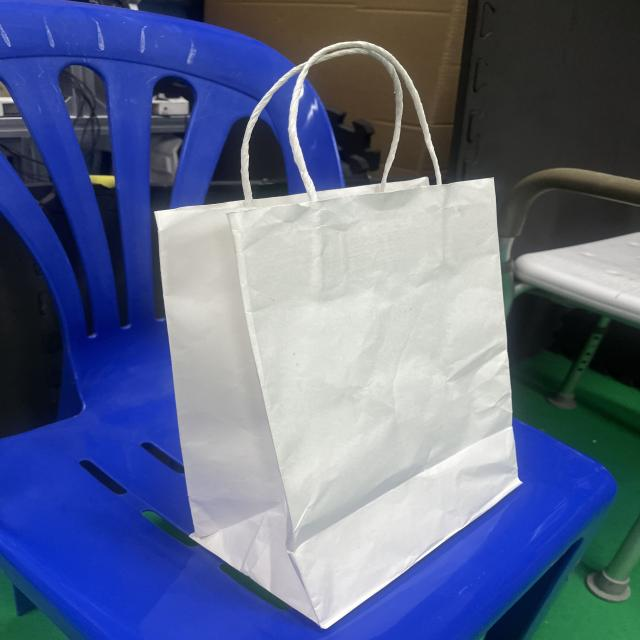paper bag: (125, 26, 555, 640)
